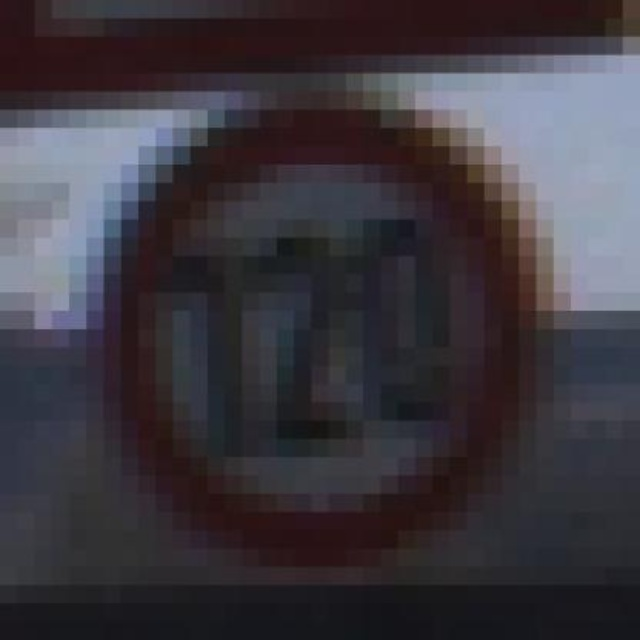Tốc độ tối đa cho phép 120km/h: (123, 107, 524, 550)
